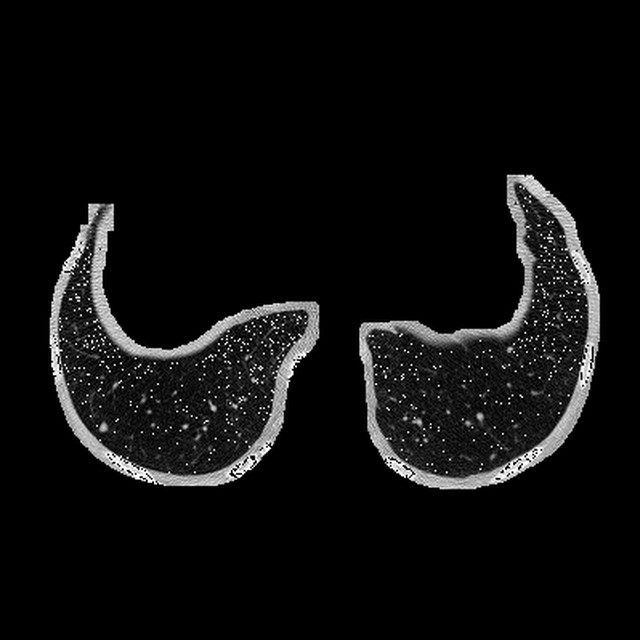PN: (99, 423, 106, 430)
